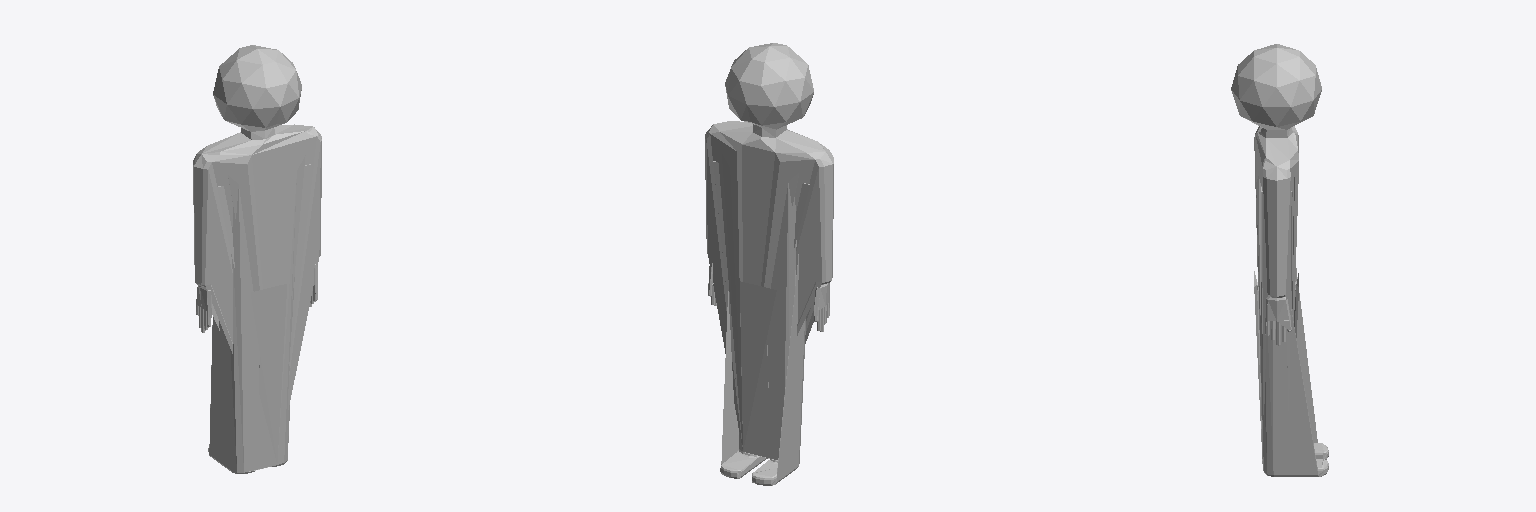
The model's file is human.obj.
The picture shows the model from 3 angles: view 1: azimuth 30°, elevation 25°; view 2: azimuth 150°, elevation 25°; view 3: azimuth 270°, elevation 25°; orthographic projection.
Visible parts, largest first — view 1: Icosphere; view 2: Icosphere; view 3: Icosphere.
Part boxes in pixels (x1,y1,x2,y2): Icosphere: (193, 45, 321, 473); Icosphere: (705, 43, 833, 485); Icosphere: (1231, 44, 1328, 476).
Size of the model in its own units: 1.05 by 3.27 by 0.6958.